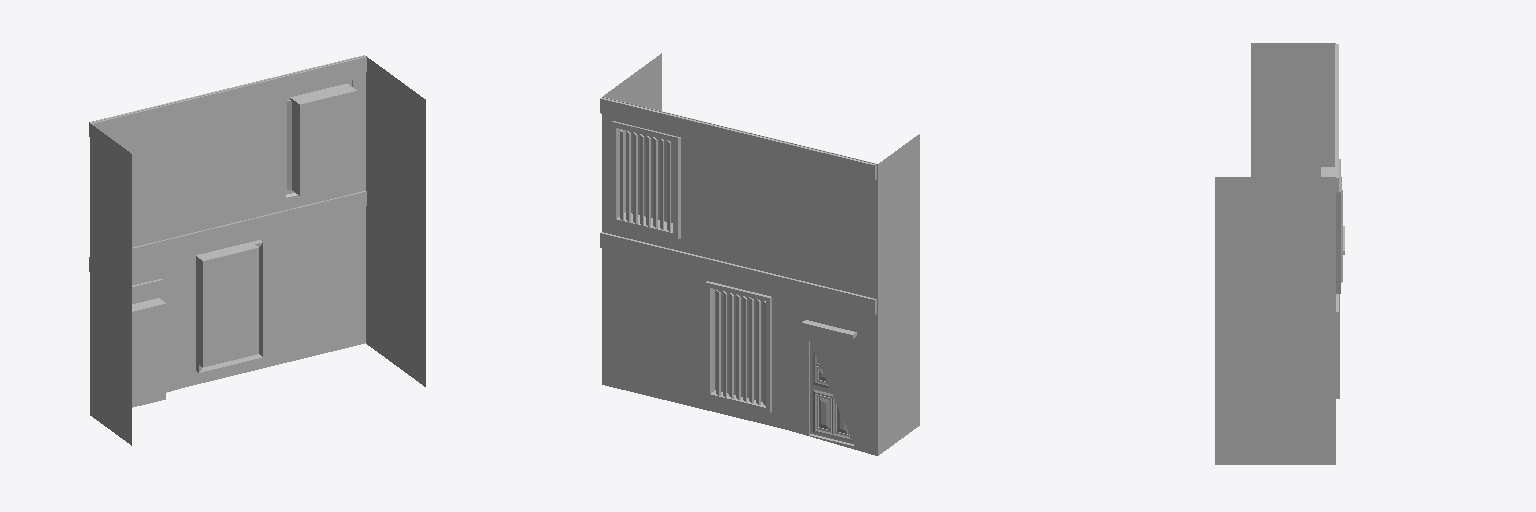
The model's file is casabrise.obj.
The picture shows the model from 3 angles: view 1: azimuth 30°, elevation 25°; view 2: azimuth 150°, elevation 25°; view 3: azimuth 270°, elevation 25°; orthographic projection.
Parts seen in each view (by area): view 1: Plane.009_Plane.053, Cube.010_Cube.003, Cube.009_Cube.003; view 2: Plane.009_Plane.053, Cube.010_Cube.003, Cube.009_Cube.003, Cube.001_Cube.004, Cube_Cube.004, Cube.002_Cube.004; view 3: Plane.009_Plane.053, Cube.010_Cube.003.
Boxes of the visible parts, x1,y1,x2,y2 form: Plane.009_Plane.053: [90, 56, 425, 445]; Cube.010_Cube.003: [89, 55, 366, 136]; Cube.009_Cube.003: [89, 191, 366, 271]; Plane.009_Plane.053: [602, 53, 919, 455]; Cube.010_Cube.003: [600, 97, 876, 179]; Cube.009_Cube.003: [600, 232, 876, 314]; Cube.001_Cube.004: [716, 290, 765, 405]; Cube_Cube.004: [620, 130, 670, 231]; Cube.002_Cube.004: [810, 343, 853, 443]; Plane.009_Plane.053: [1215, 43, 1340, 464]; Cube.010_Cube.003: [1335, 44, 1338, 192].
Size of the model in its own units: 6.02 by 6.09 by 2.44.